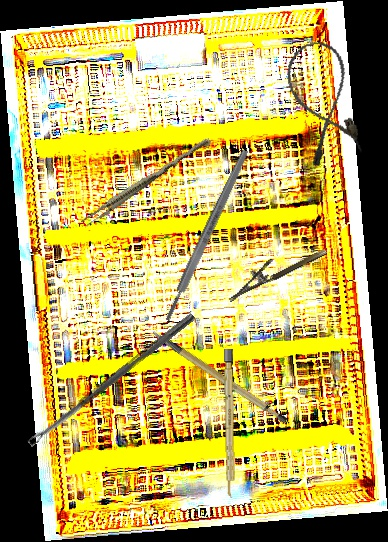Cannula: (280, 35, 366, 169)
Needle Holder: (221, 235, 328, 303)
Scalpel Handle: (149, 309, 290, 441), (162, 148, 251, 323), (223, 348, 236, 499)
Surgical Spoon: (26, 311, 196, 448)
Tissue Forceps: (80, 132, 212, 231)
